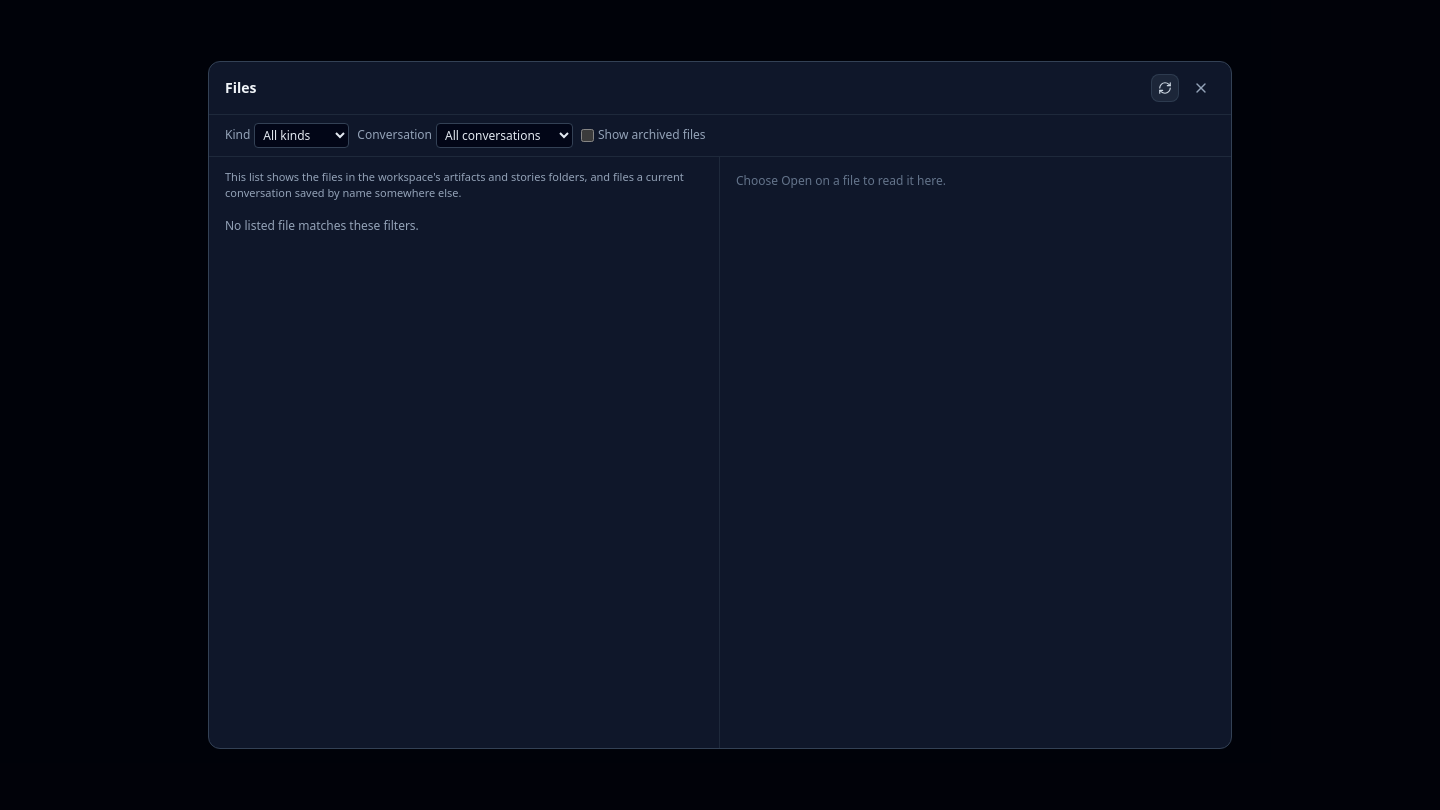
Test case: ArtifactLibrary, the Files screen (#1554) › in the archive, asks before deleting, and sends nothing until the deletion is confirmed
Expected: the text "No listed file matches these filters." is shown, [225,217,419,234]
Click the checkbox with test id "files-show-archived" at {"x": 588, "y": 135}, box [581,129,594,142]
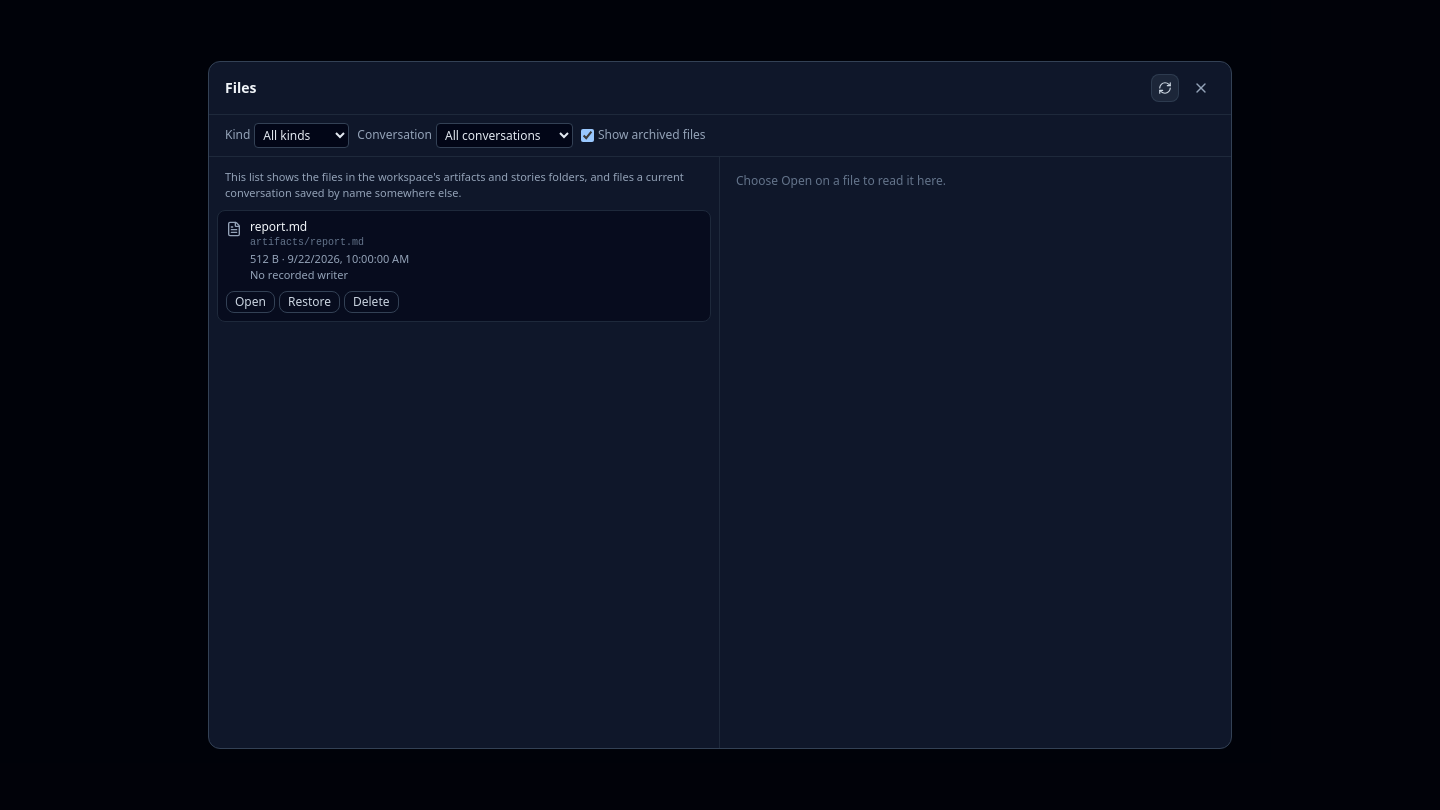
Click the button with test id "files-delete" at {"x": 371, "y": 302}, box [344,291,398,313]
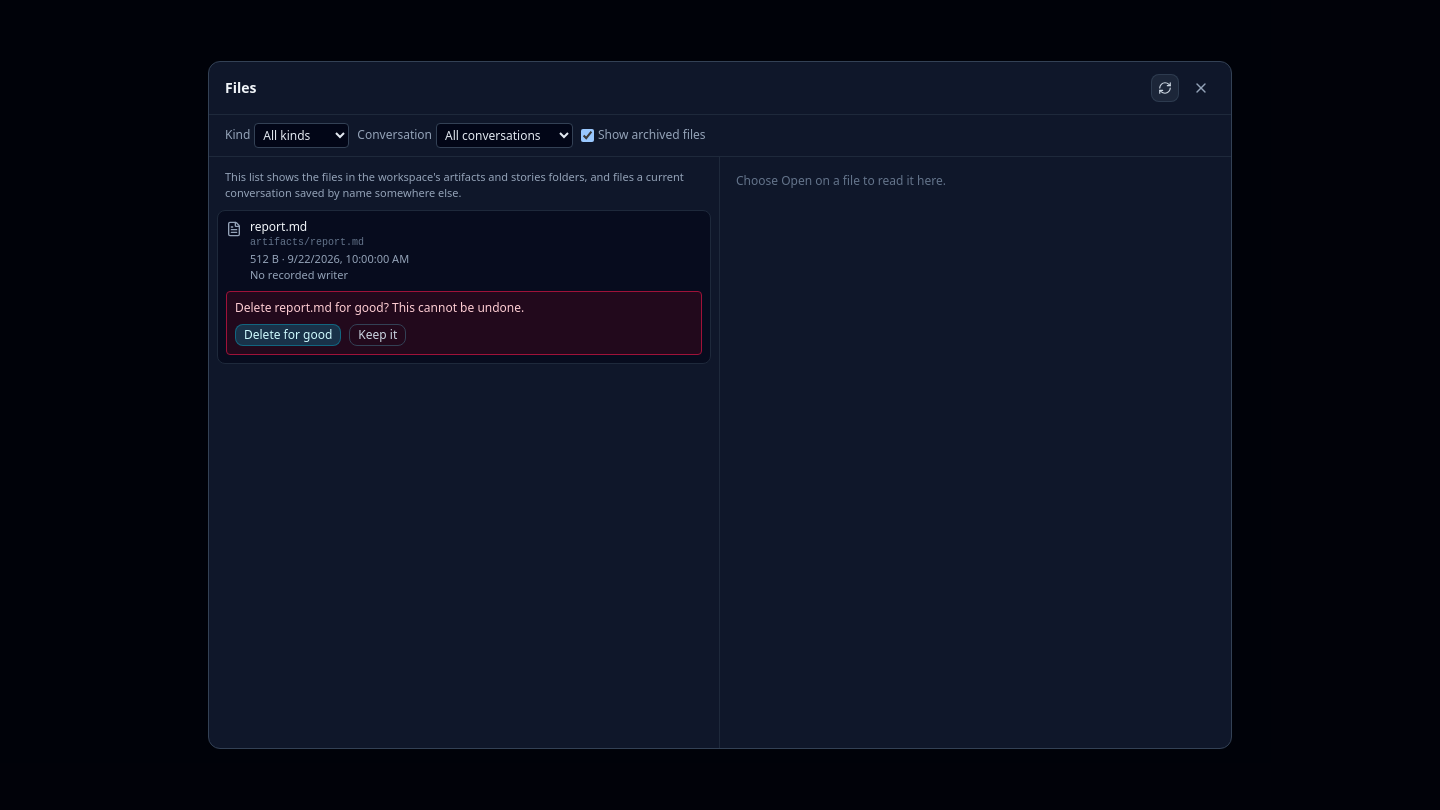
Click the button with test id "files-confirm-delete" at {"x": 288, "y": 335}, box [235,324,341,346]
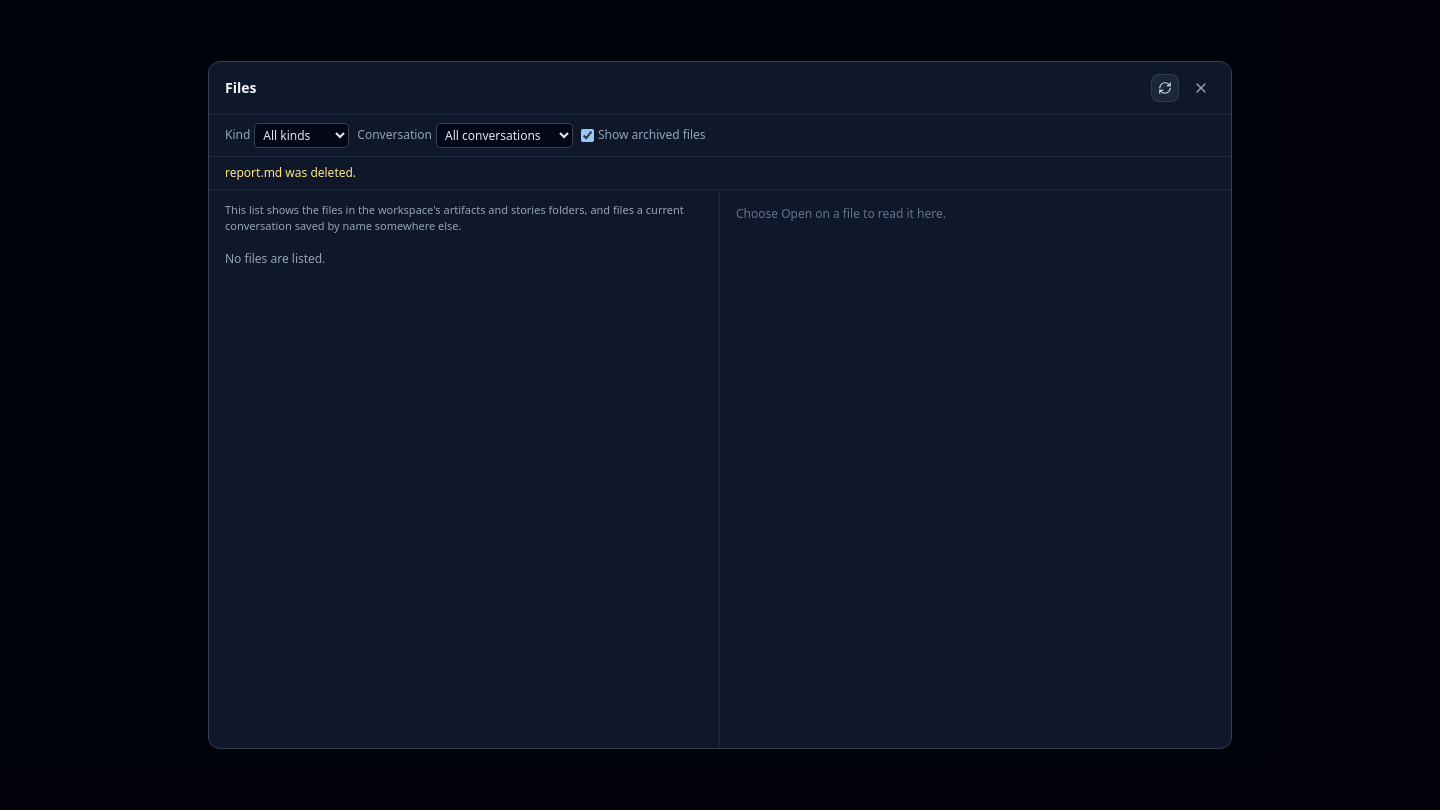
Now the message with test id "files-notice" reads "report.md was deleted.", box [225,164,356,181]
